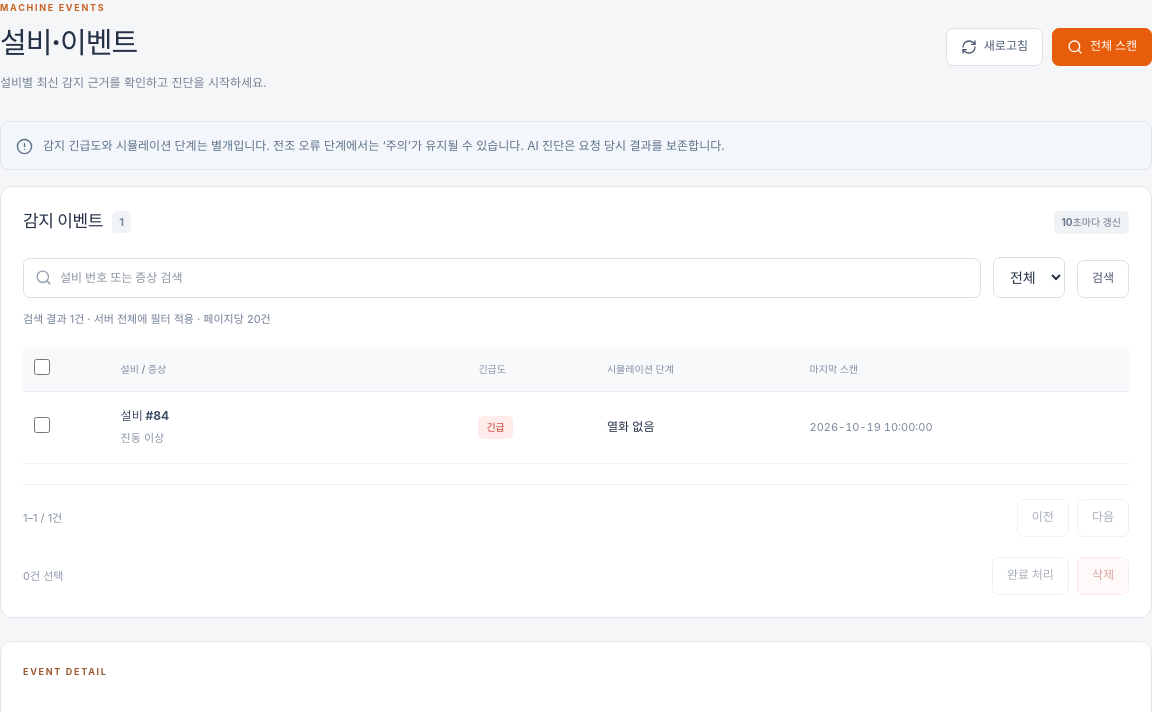
Scenario: event workflow › links the selected event to a diagnosis with the correct machine context
Click the button "설비 #84 진동 이상" at coordinates (188, 427), box x1=121 y1=407 x2=256 y2=448
(page scrolled)
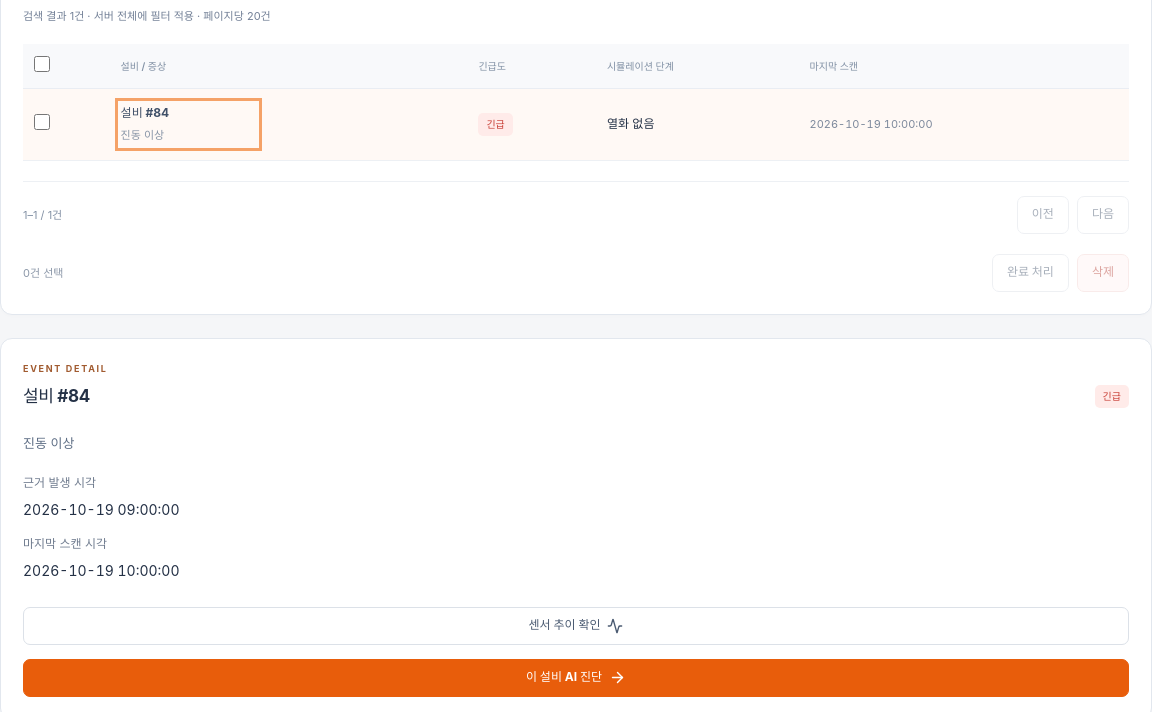
Check: the text "2026-10-19 09:00:00" is shown, box x1=23 y1=501 x2=180 y2=518
